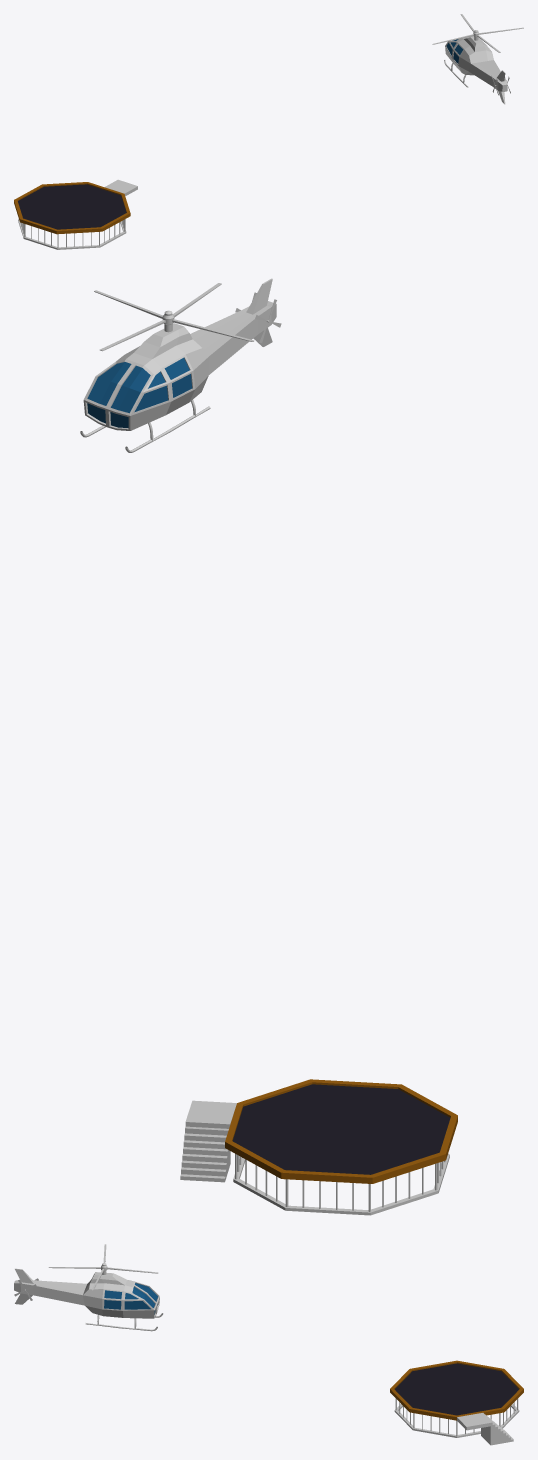
File: copter_000110.obj
3 renders of one model, top to bottom at view 1: azimuth 30°, elevation 25°; view 2: azimuth 150°, elevation 25°; view 3: azimuth 270°, elevation 25°, orthographic. The views are drawn at different scales.
Visible parts, largest first — view 1: Cylinder.001_Cylinder.012, Helicopter.007_Cylinder.008, Helicopter.001_Cylinder.001; view 2: Cylinder.001_Cylinder.012, Helicopter.007_Cylinder.008, Helicopter.001_Cylinder.001; view 3: Cylinder.001_Cylinder.012, Helicopter.007_Cylinder.008, Helicopter.001_Cylinder.001.
Boxes of the visible parts, <box> form: Cylinder.001_Cylinder.012: <box>14,179,137,249</box>; Helicopter.007_Cylinder.008: <box>444,36,507,104</box>; Helicopter.001_Cylinder.001: <box>432,14,523,52</box>; Cylinder.001_Cylinder.012: <box>180,1079,457,1215</box>; Helicopter.007_Cylinder.008: <box>80,278,276,452</box>; Helicopter.001_Cylinder.001: <box>94,283,254,351</box>; Cylinder.001_Cylinder.012: <box>390,1360,523,1445</box>; Helicopter.007_Cylinder.008: <box>14,1268,163,1331</box>; Helicopter.001_Cylinder.001: <box>48,1244,158,1290</box>.
Bounding box in the file's own units: 22.02 × 15.68 × 25.76.
